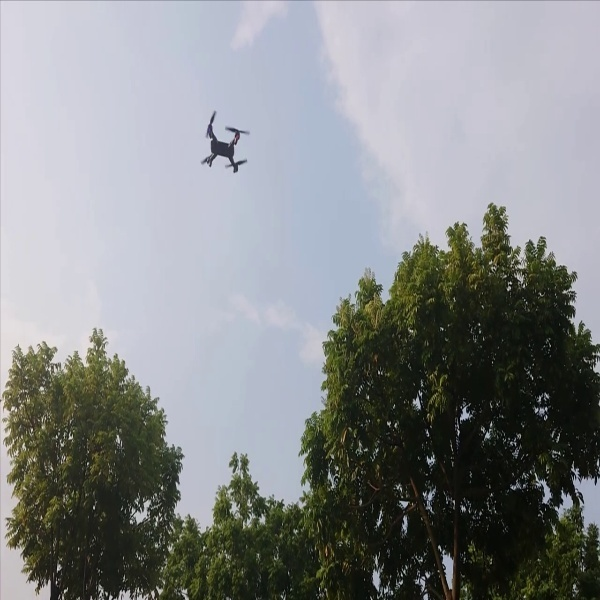drone: (190, 112, 256, 182)
